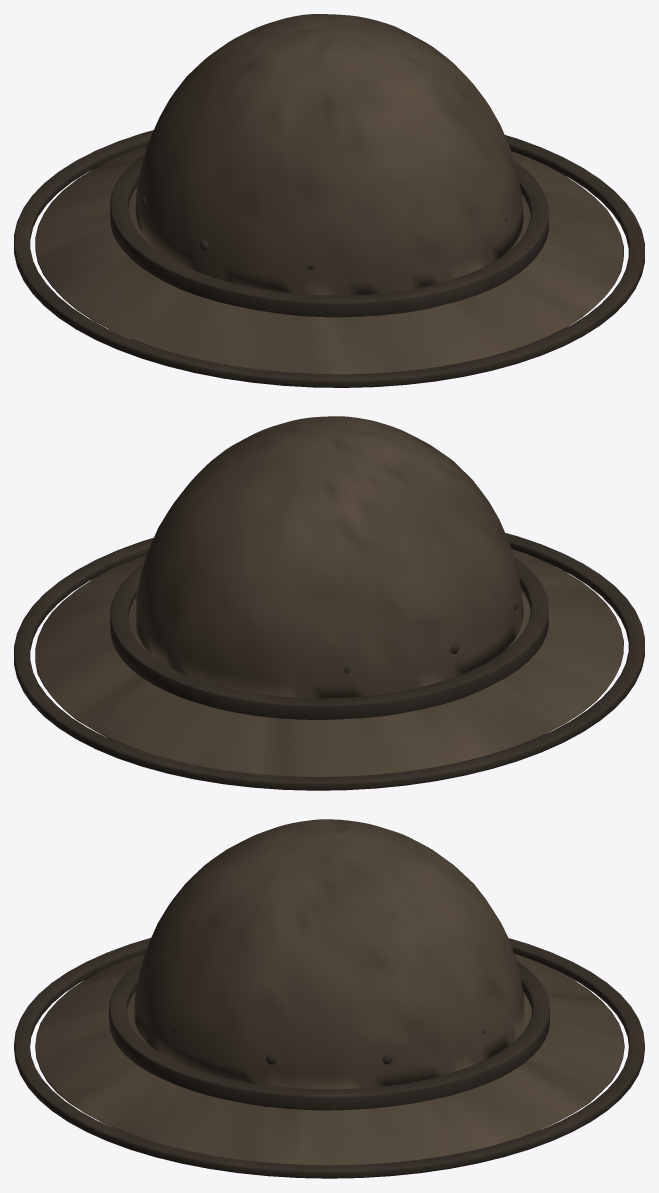
The model's file is head_kettle.glb.
3 renders of one model, top to bottom at view 1: azimuth 30°, elevation 25°; view 2: azimuth 150°, elevation 25°; view 3: azimuth 270°, elevation 25°, orthographic. The views are drawn at different scales.
Parts seen in each view (by area): view 1: Sphere, Cone, Cylinder, Cylinder.001; view 2: Sphere, Cone, Cylinder, Cylinder.001; view 3: Sphere, Cone, Cylinder, Cylinder.001.
Boxes of the visible parts, x1,y1,x2,y2 form: Sphere: (135,14,523,295); Cone: (35,145,623,374); Cylinder: (14,130,644,387); Cylinder.001: (110,154,548,317); Sphere: (135,416,523,698); Cone: (35,549,623,776); Cylinder: (14,533,644,790); Cylinder.001: (110,557,548,719); Sphere: (133,819,524,1089); Cone: (35,953,624,1165); Cylinder: (14,938,644,1178); Cylinder.001: (109,961,549,1110).
Bounding box in the file's own units: 3.46 × 1.35 × 3.59.
